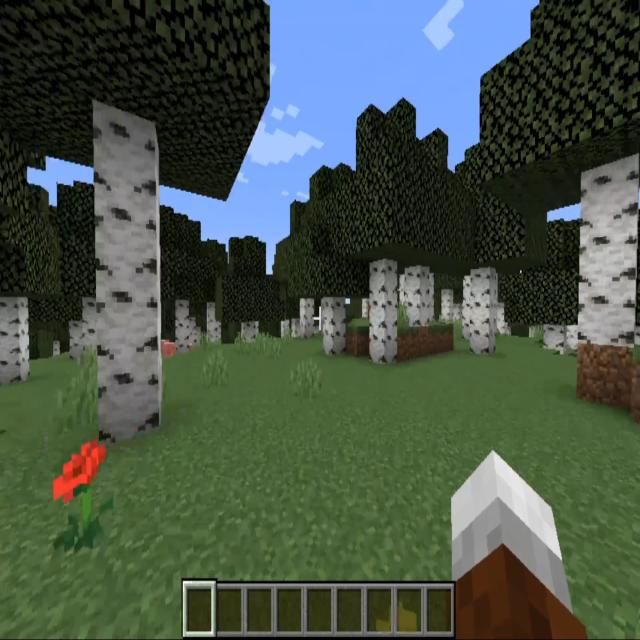Pig: (159, 338, 180, 360), (187, 338, 198, 351)
